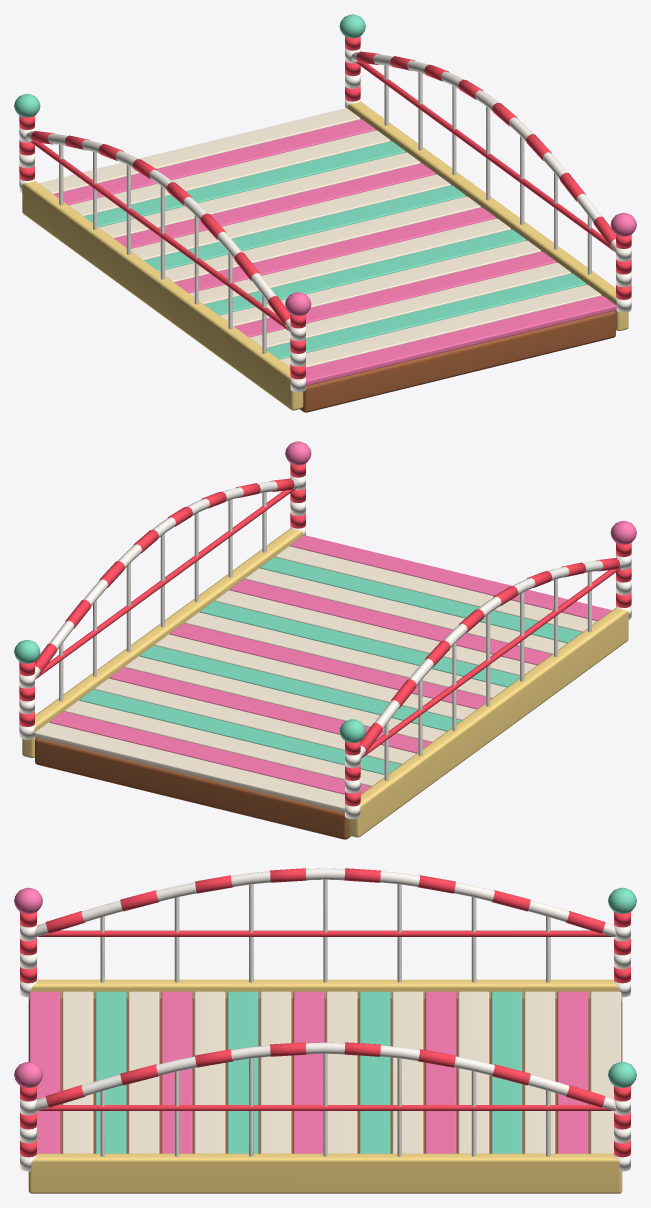
File: candy_bridge_wide.glb
3 views of the same model, one above another, from view 1: azimuth 30°, elevation 25°; view 2: azimuth 150°, elevation 25°; view 3: azimuth 270°, elevation 25° (orthographic). The views are drawn at different scales.
Visible parts, largest first — view 1: Bridge; view 2: Bridge; view 3: Bridge.
Part boxes in pixels (x1,y1,x2,y2): Bridge: (14, 14, 636, 412); Bridge: (14, 441, 636, 839); Bridge: (14, 868, 636, 1193).
Size of the model in its own units: 6.68 by 2.59 by 9.44.
